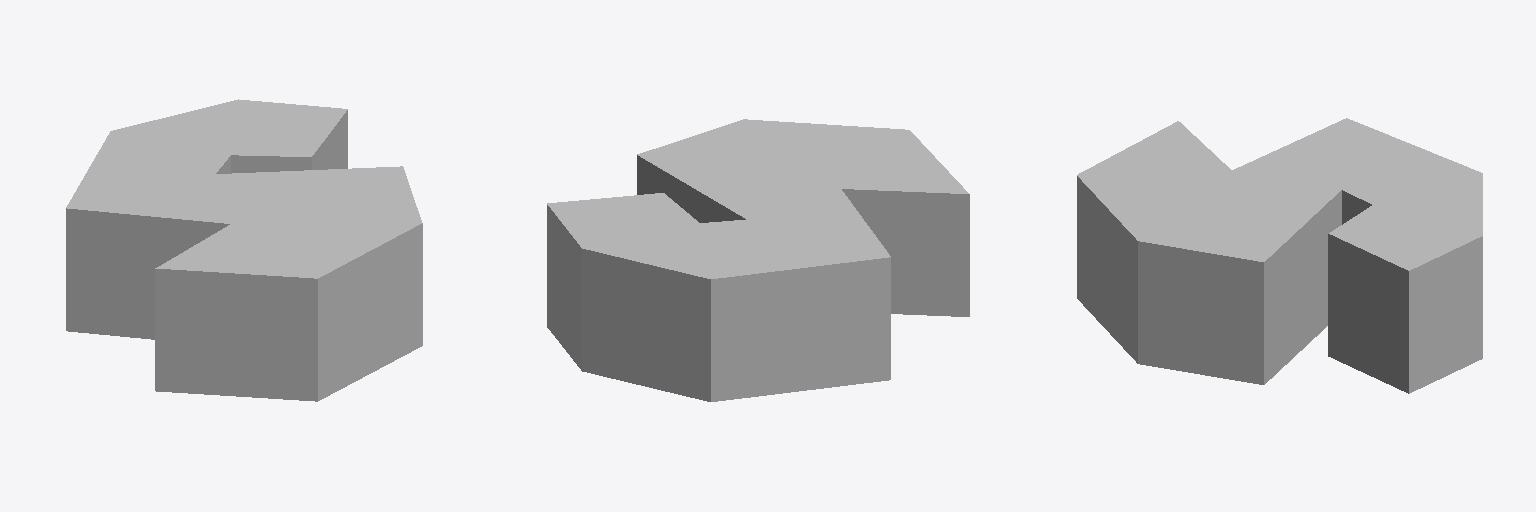
The model's file is sloppy.obj.
3 views of the same model, side by side, from view 1: azimuth 30°, elevation 25°; view 2: azimuth 150°, elevation 25°; view 3: azimuth 270°, elevation 25° (orthographic).
Parts seen in each view (by area): view 1: ST2:sloppyFrozen; view 2: ST2:sloppyFrozen; view 3: ST2:sloppyFrozen.
Boxes of the visible parts, <box> form: ST2:sloppyFrozen: <box>66,99,422,401</box>; ST2:sloppyFrozen: <box>547,119,969,401</box>; ST2:sloppyFrozen: <box>1077,118,1482,393</box>.
Size of the model in its own units: 0.4478 by 0.1677 by 0.5031.